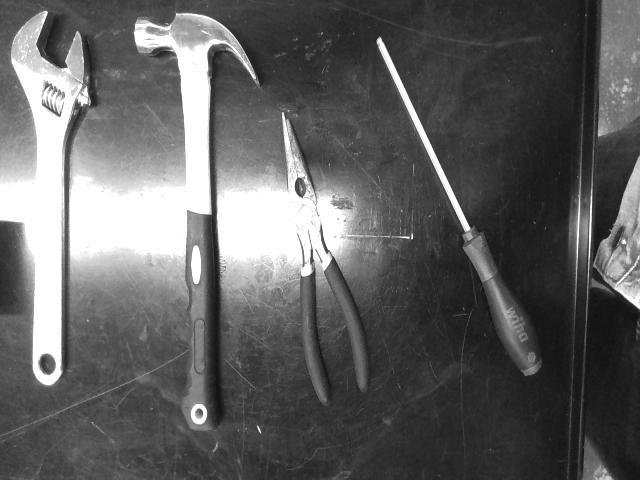Adjustable spanner: (11, 12, 91, 385)
Hammer: (134, 14, 260, 430)
Needle-nose pliers: (281, 112, 369, 405)
Screwdriver: (376, 38, 542, 377)
